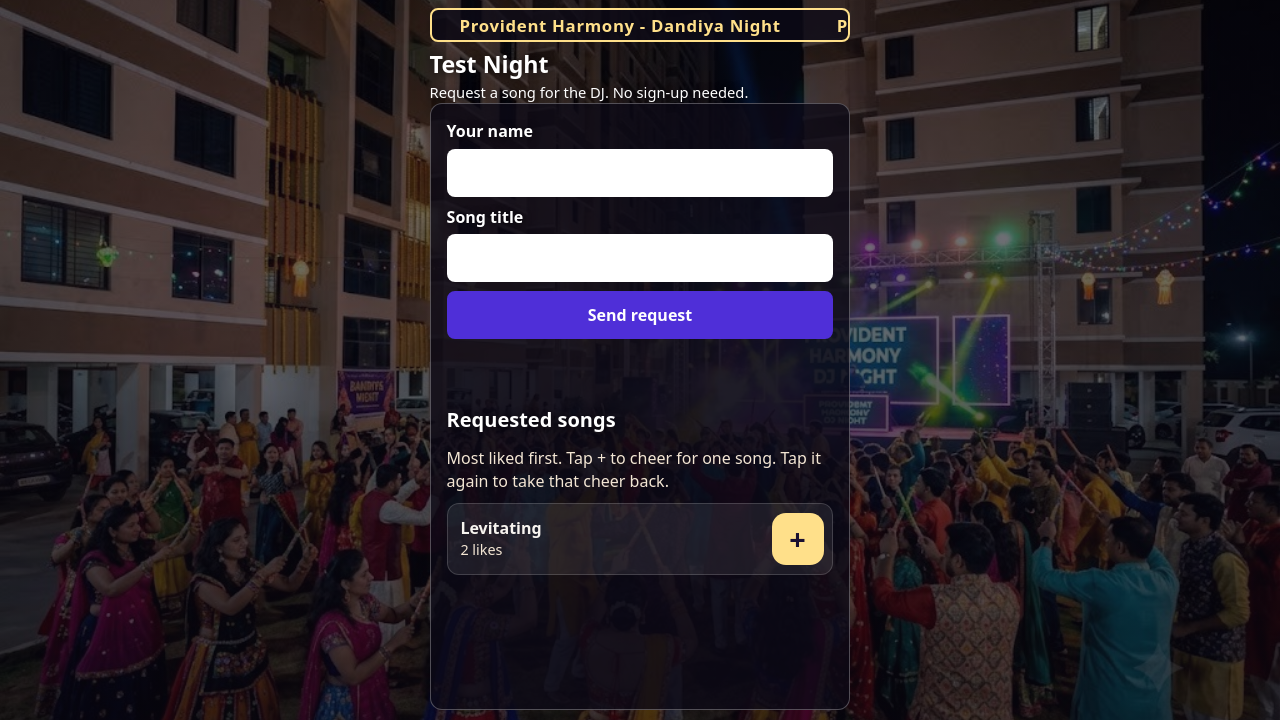
Test: AudiencePage › moves the cheer after the person confirms, and a liked song can be taken back
Click the button named "Like Levitating". click: click(798, 539)
box: [772, 513, 824, 565]
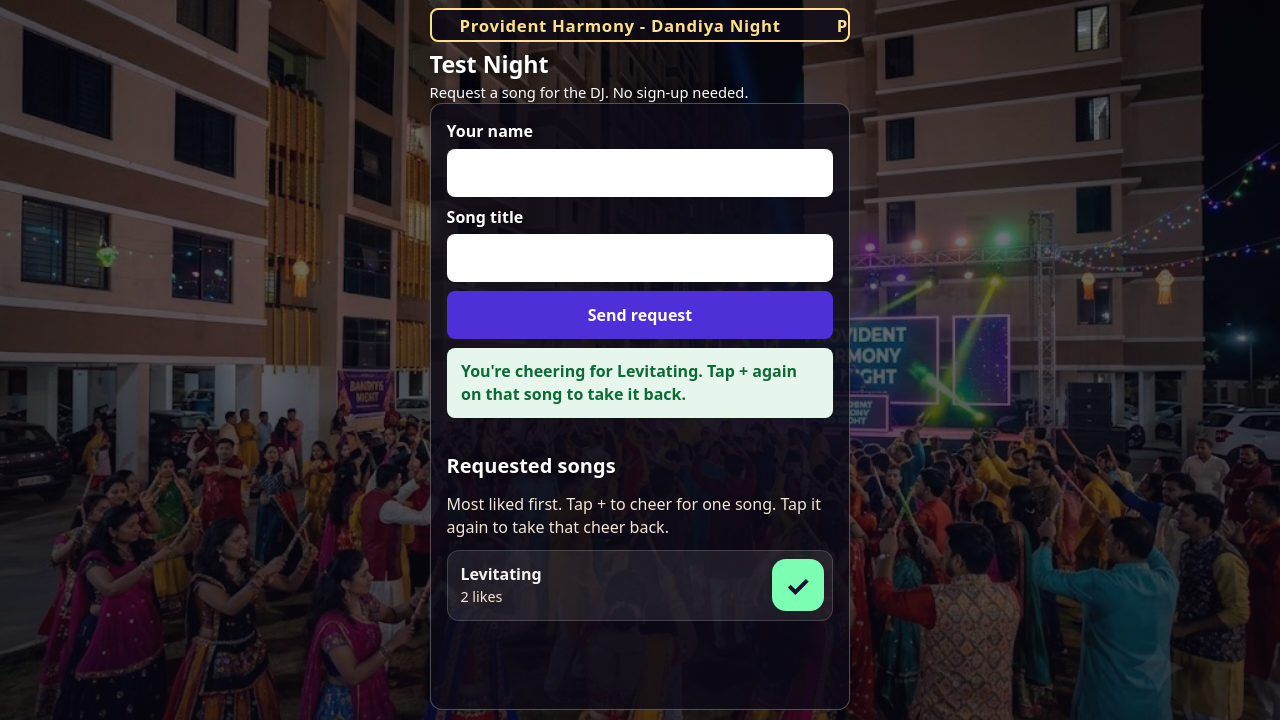
Now the text "cheering for Levitating" is shown, box [461, 360, 797, 405]
Click the button named "Remove your like from Levitating". click: click(798, 585)
box: [772, 559, 824, 611]
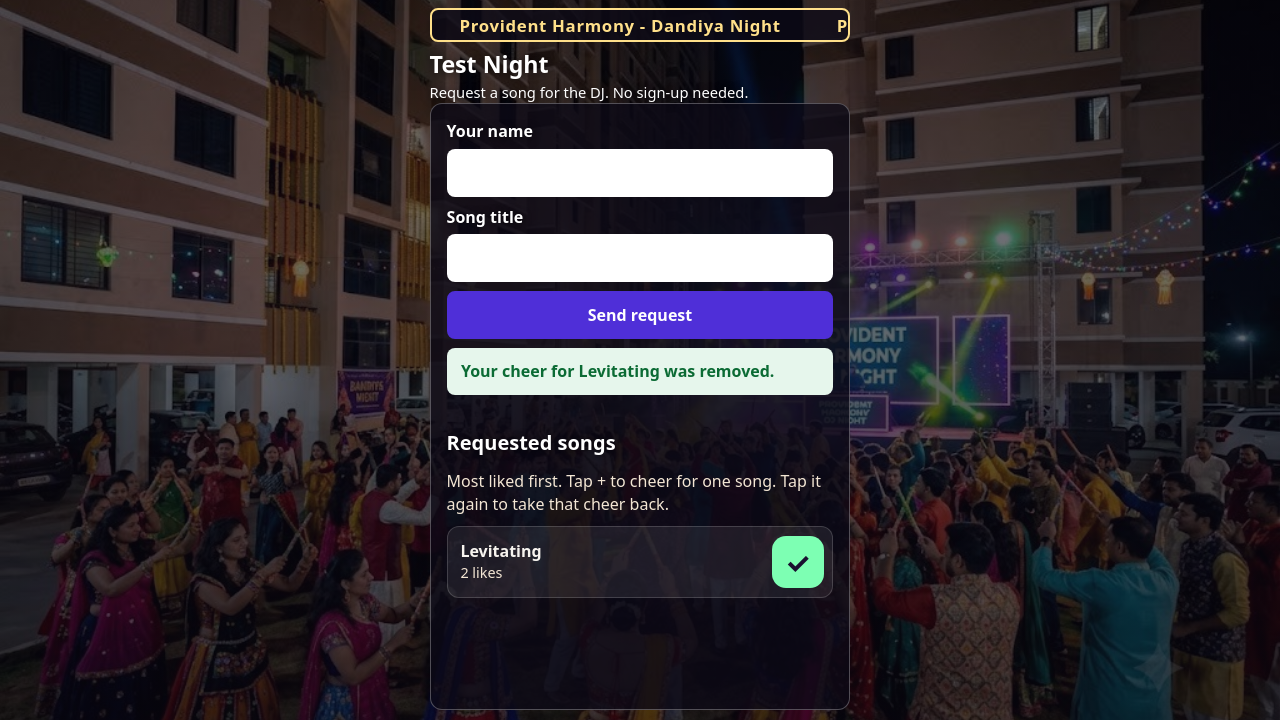
Now the text "Your cheer for Levitating was removed." is shown, box [447, 348, 833, 395]
